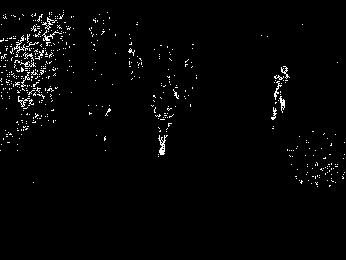person: (148, 76, 181, 163), (264, 63, 297, 134)
